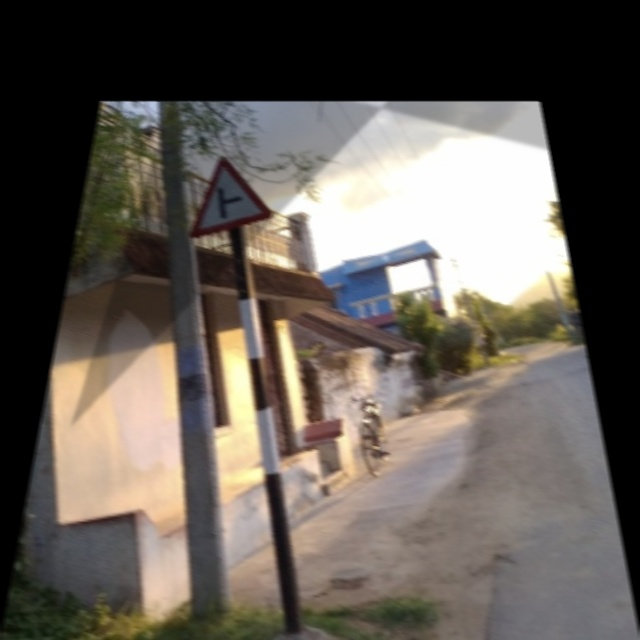Side_Road_Right: (181, 154, 276, 237)
